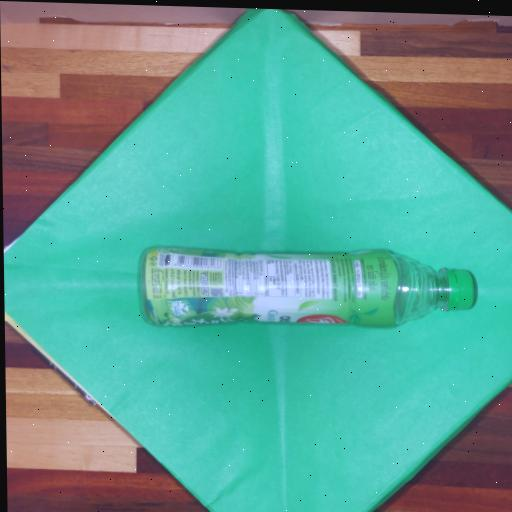bottle: (138, 239, 481, 331)
